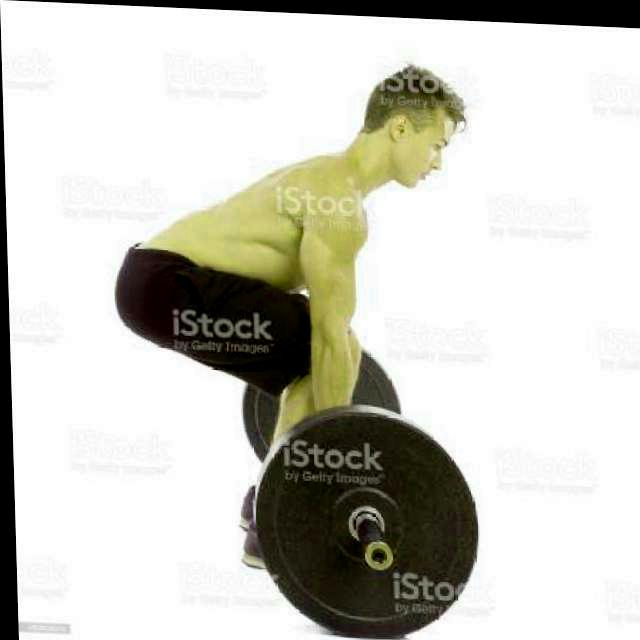barbell: (247, 397, 497, 640)
